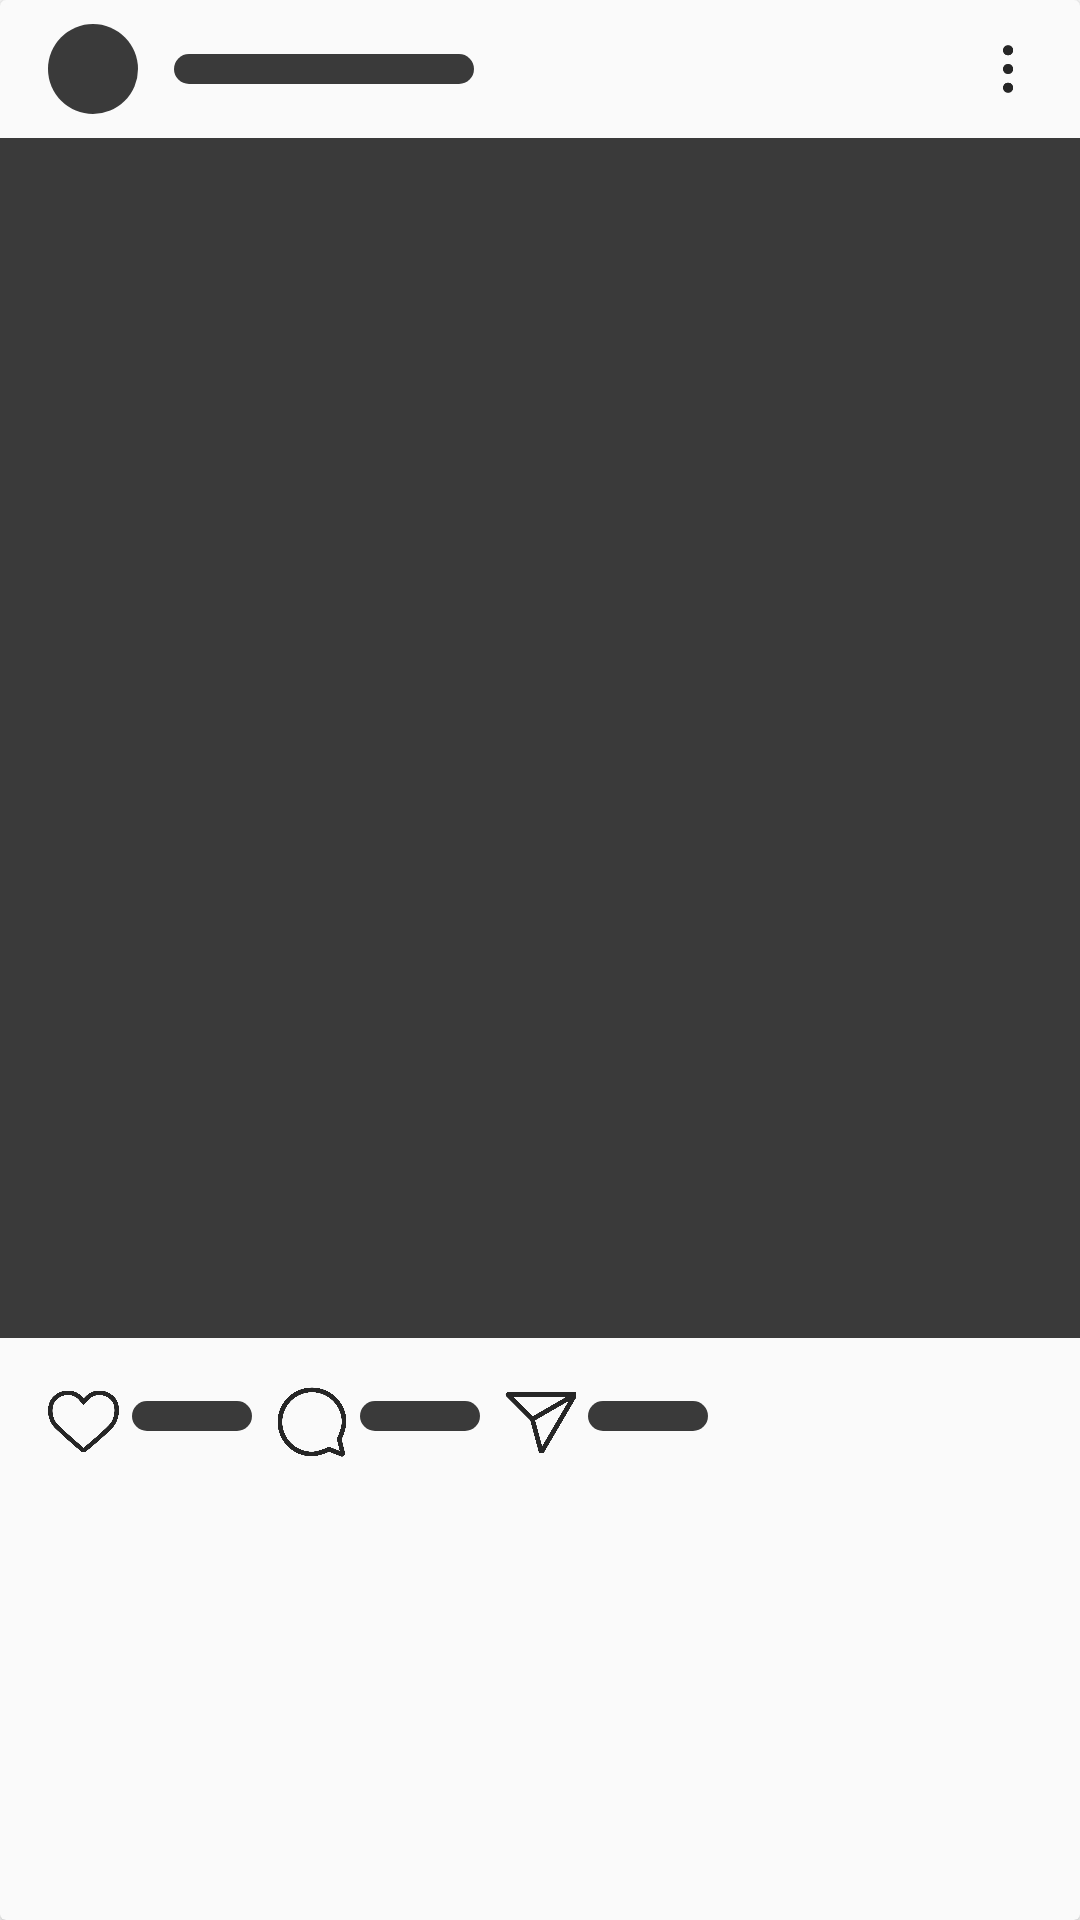

Icons on this 1080w x 1920h Android screen, each with its box as (x1, y1, x2, y2):
chat: (278, 1387, 346, 1457)
heart: (48, 1391, 119, 1452)
more settings: (1003, 45, 1013, 93)
send: (505, 1392, 576, 1453)
